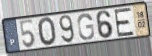5: (18, 17, 36, 50)
6: (95, 9, 115, 40)
9: (58, 14, 76, 45)
E: (113, 7, 136, 39)
G: (76, 12, 96, 41)
O: (37, 16, 58, 48)
